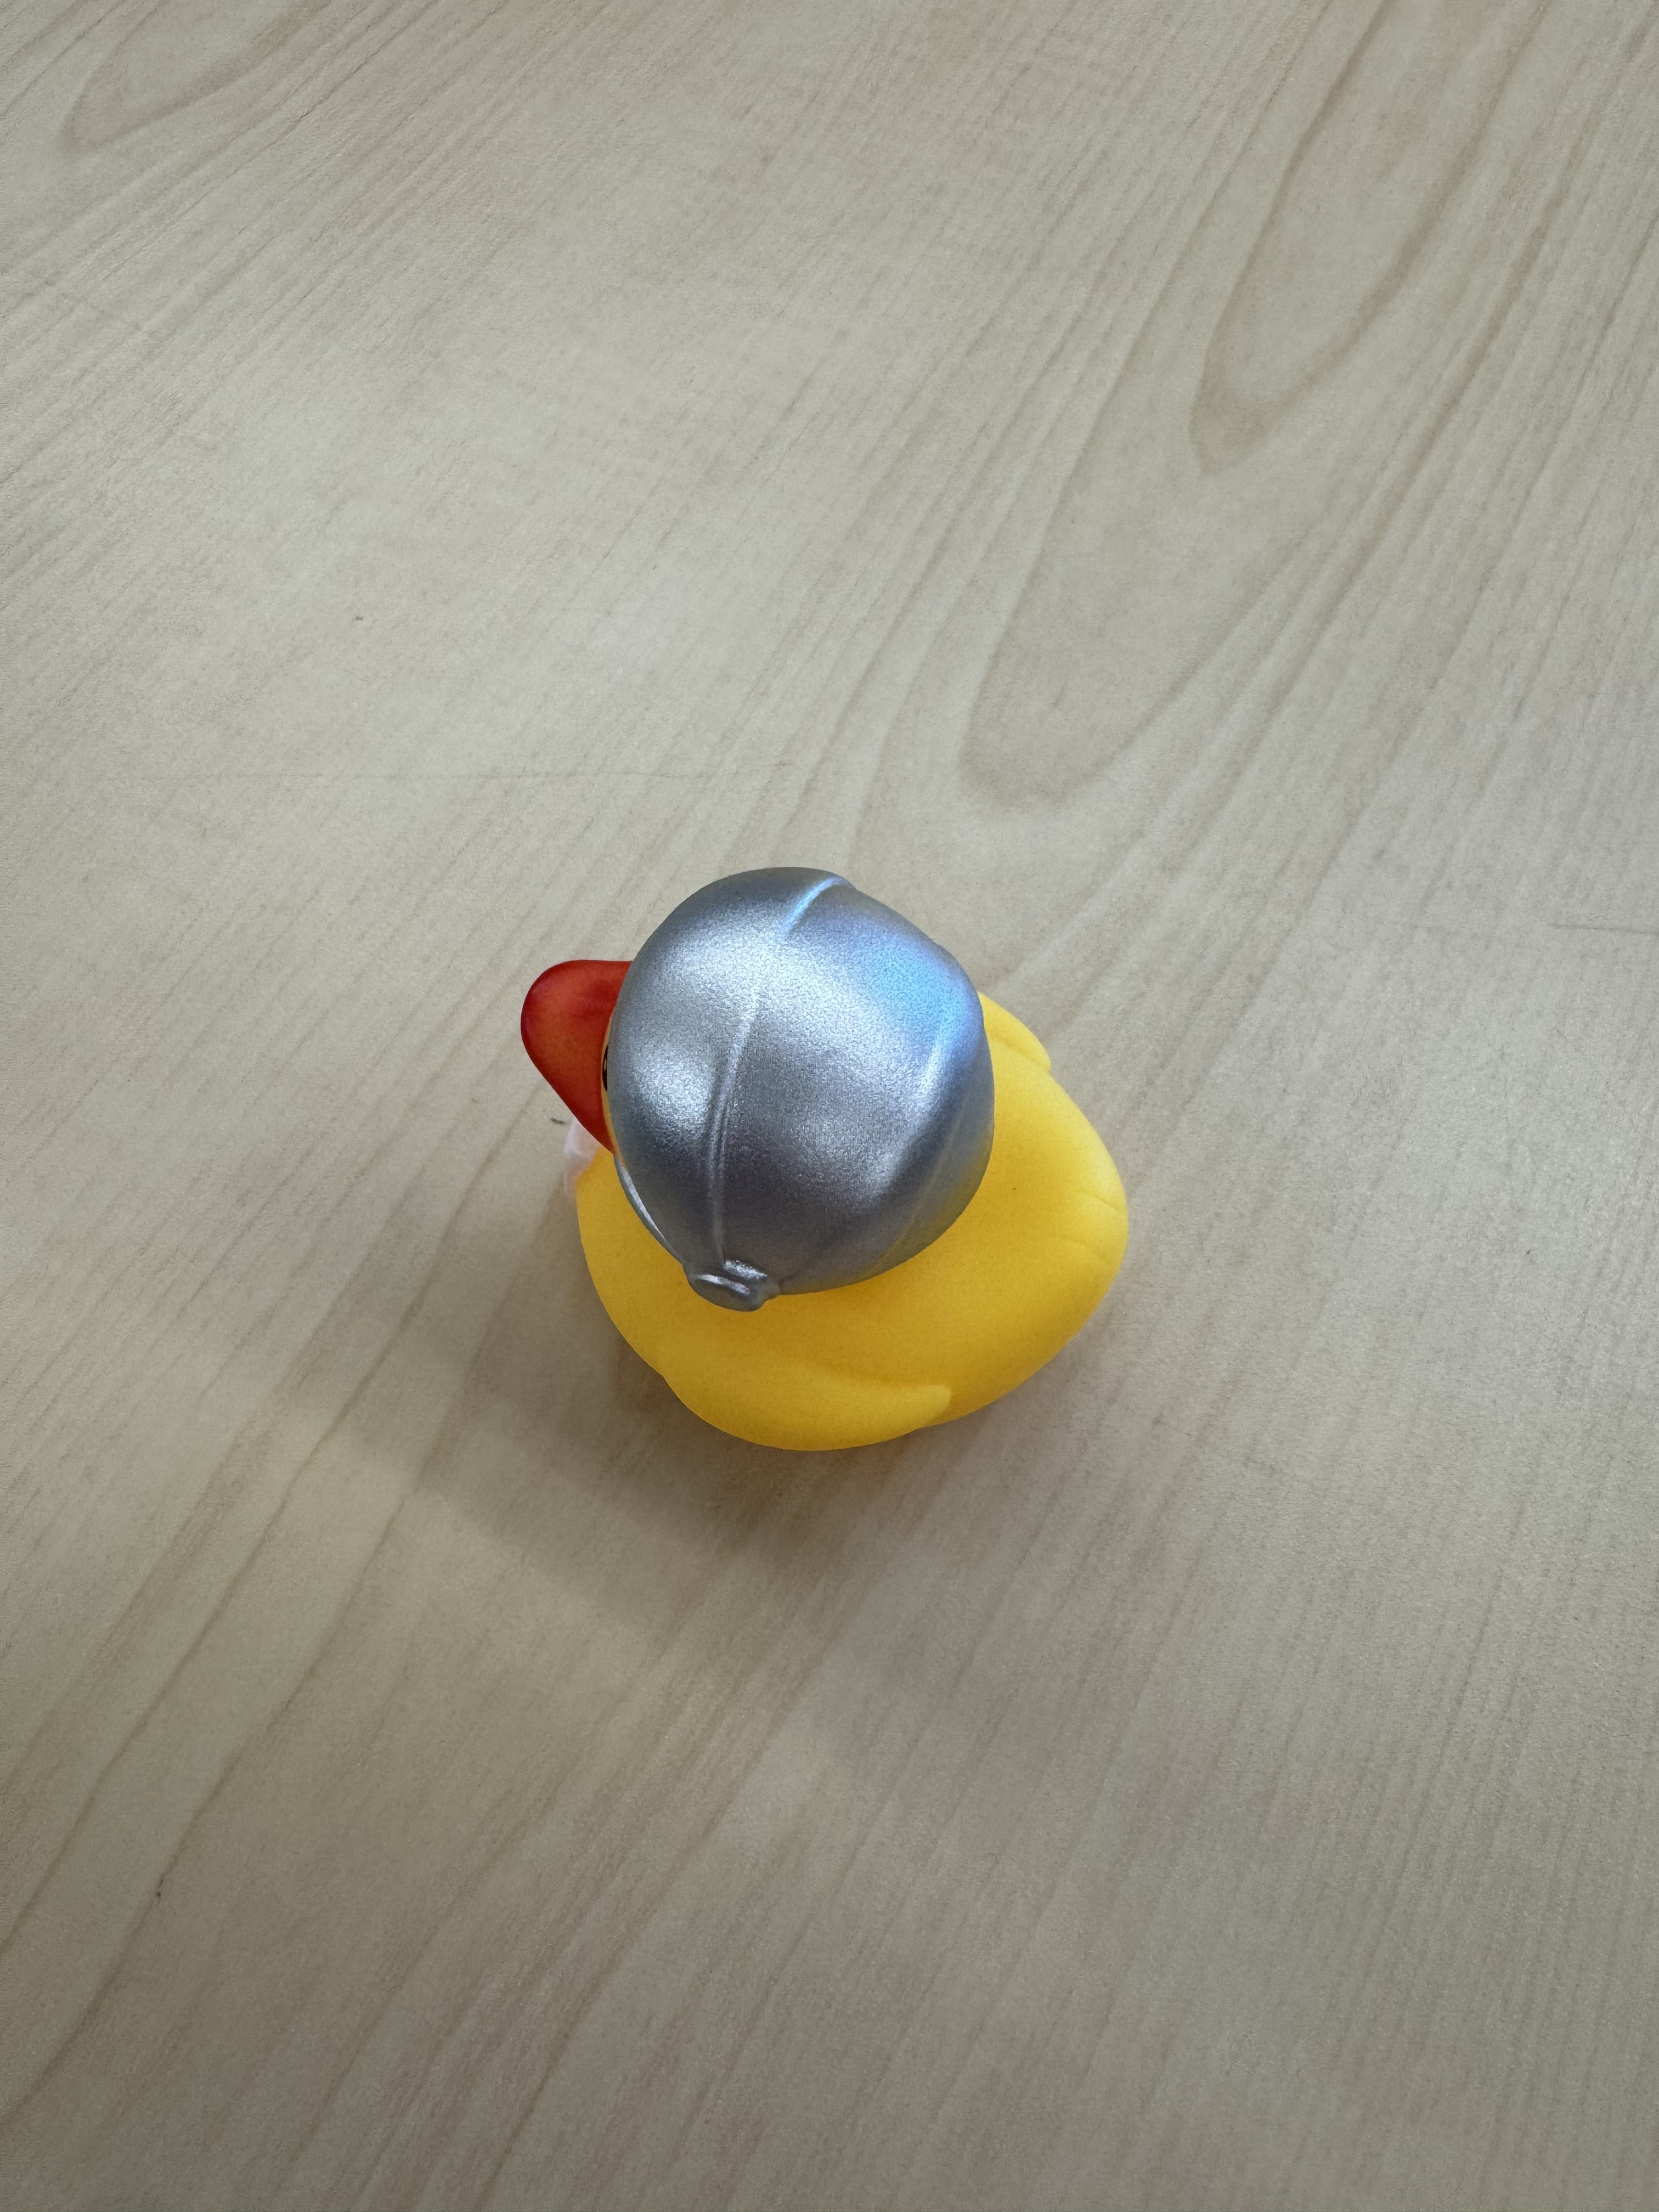duck_specialty: (516, 845, 1140, 1463)
